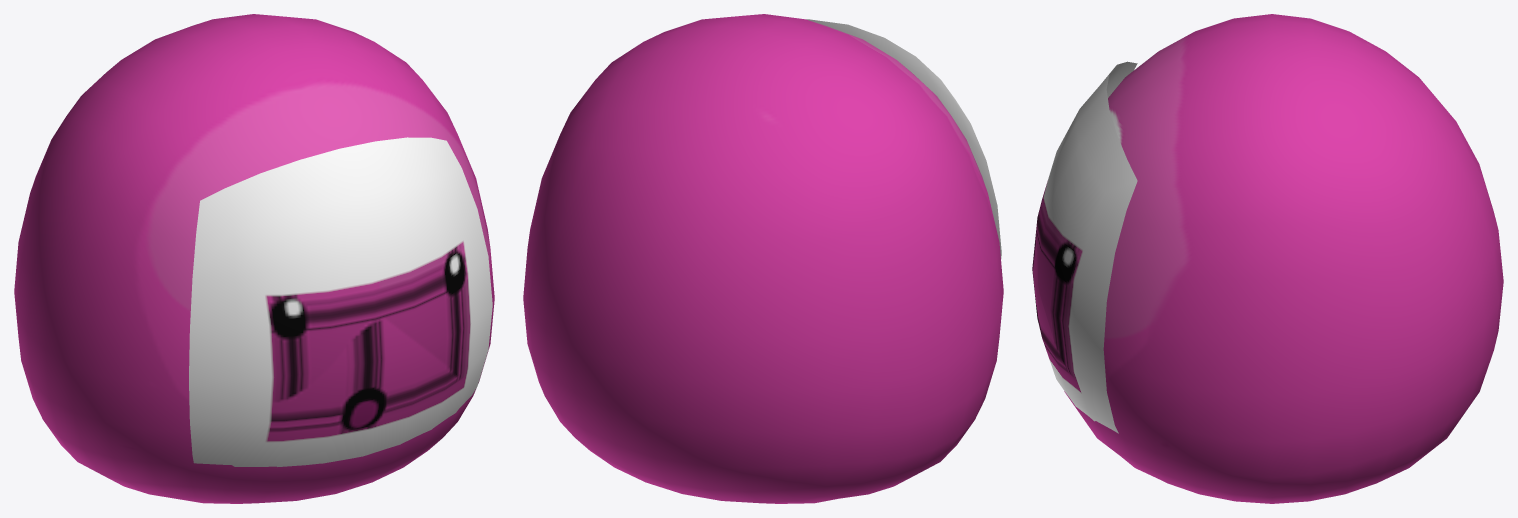
Rendered from Chara.fbx.
3 renders of one model, left to right at view 1: azimuth 30°, elevation 25°; view 2: azimuth 150°, elevation 25°; view 3: azimuth 270°, elevation 25°, orthographic. The views are drawn at different scales.
Parts seen in each view (by area): view 1: pCube6; view 2: pCube6; view 3: pCube6.
Boxes of the visible parts, bbox=[...] form: pCube6: bbox=[14, 14, 494, 503]; pCube6: bbox=[523, 14, 1003, 503]; pCube6: bbox=[1032, 14, 1503, 503].
Bounding box in the file's own units: 31.03 × 29.85 × 31.1.
